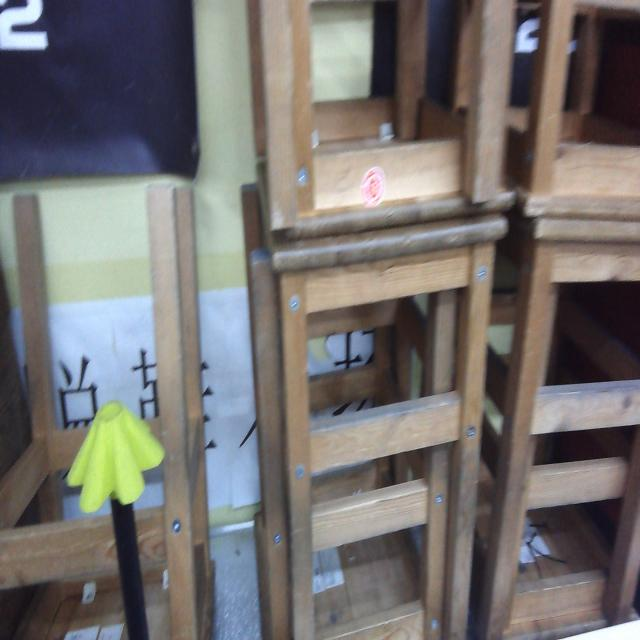Yellow-Stake-Head: (66, 400, 165, 514)
